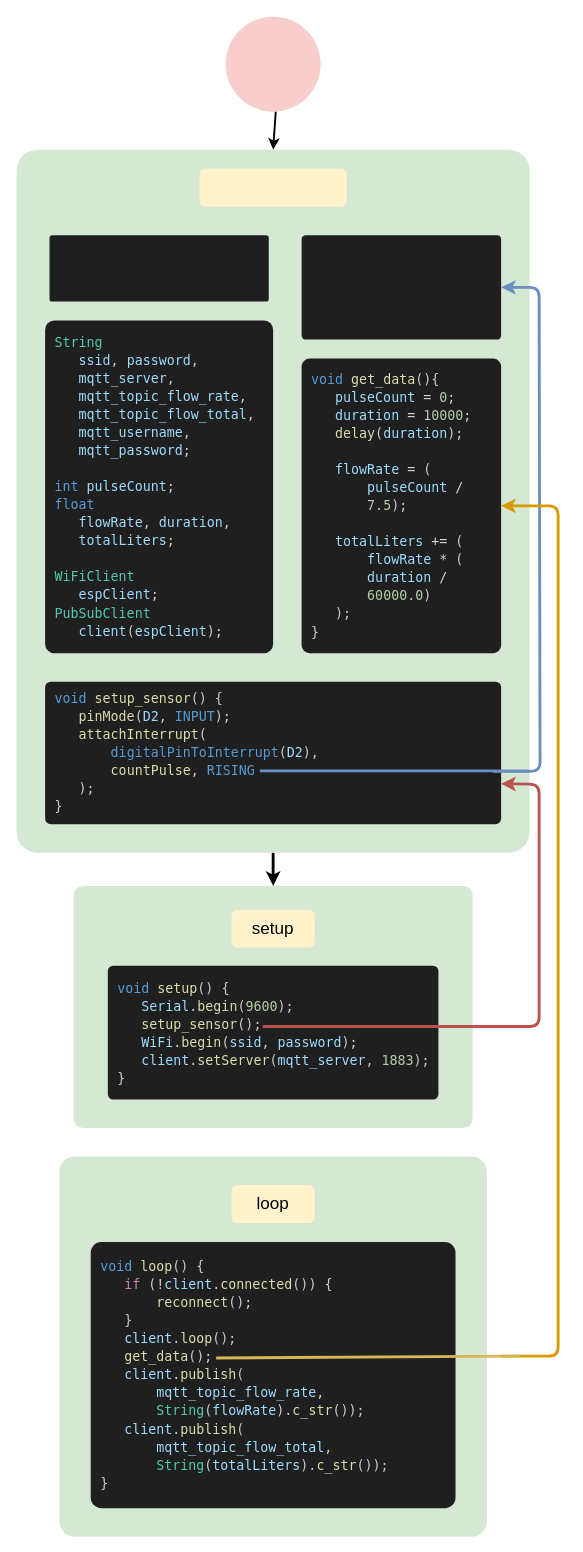
Image size: 583x1552. Some labels were removed from this diagram. Here are the shapes that lost their labels. From the top down, the centre of each, then its label:
At point (272, 63): "Mulai".
At point (272, 187): "variabel global".
At point (158, 268): "#include <ESP8266WiFi.h> #include <PubSubClient.h>".
At point (401, 287): "void IRAM_ATTR countPulse () { pulseCount ++ ; }".
